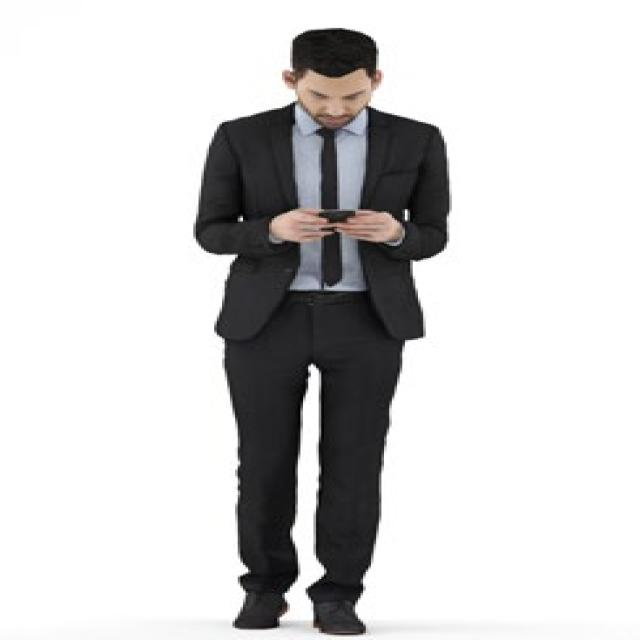standing: (189, 27, 453, 640)
